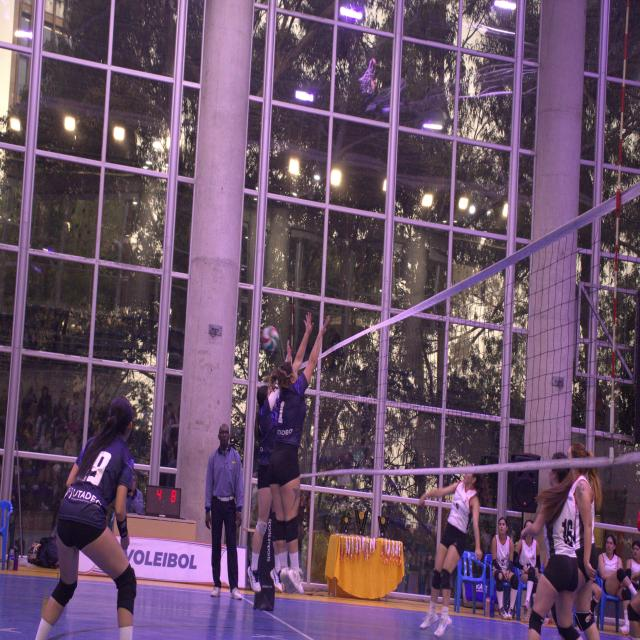volleyball: (262, 325, 278, 352)
